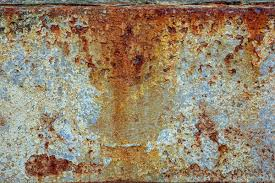rust: (2, 2, 275, 38), (21, 149, 96, 179), (77, 30, 121, 74), (189, 113, 222, 151), (224, 45, 247, 78), (34, 117, 59, 141), (129, 52, 152, 72)
